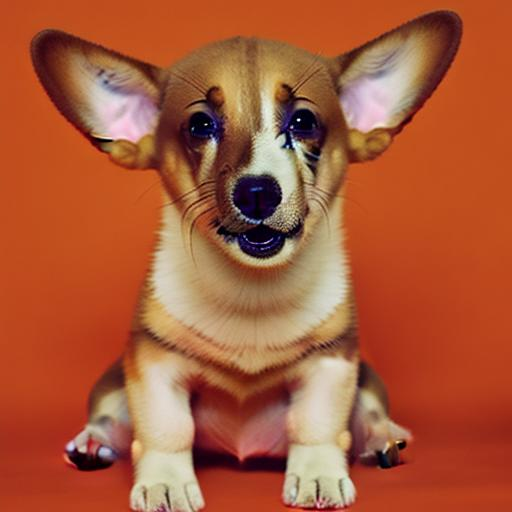eye: (177, 105, 223, 147), (284, 107, 324, 144)
